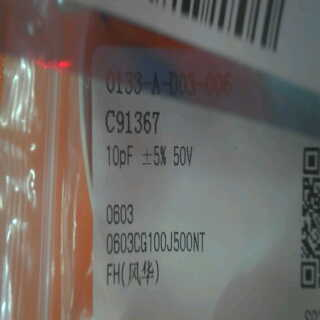10pF: (100, 141, 138, 167)
